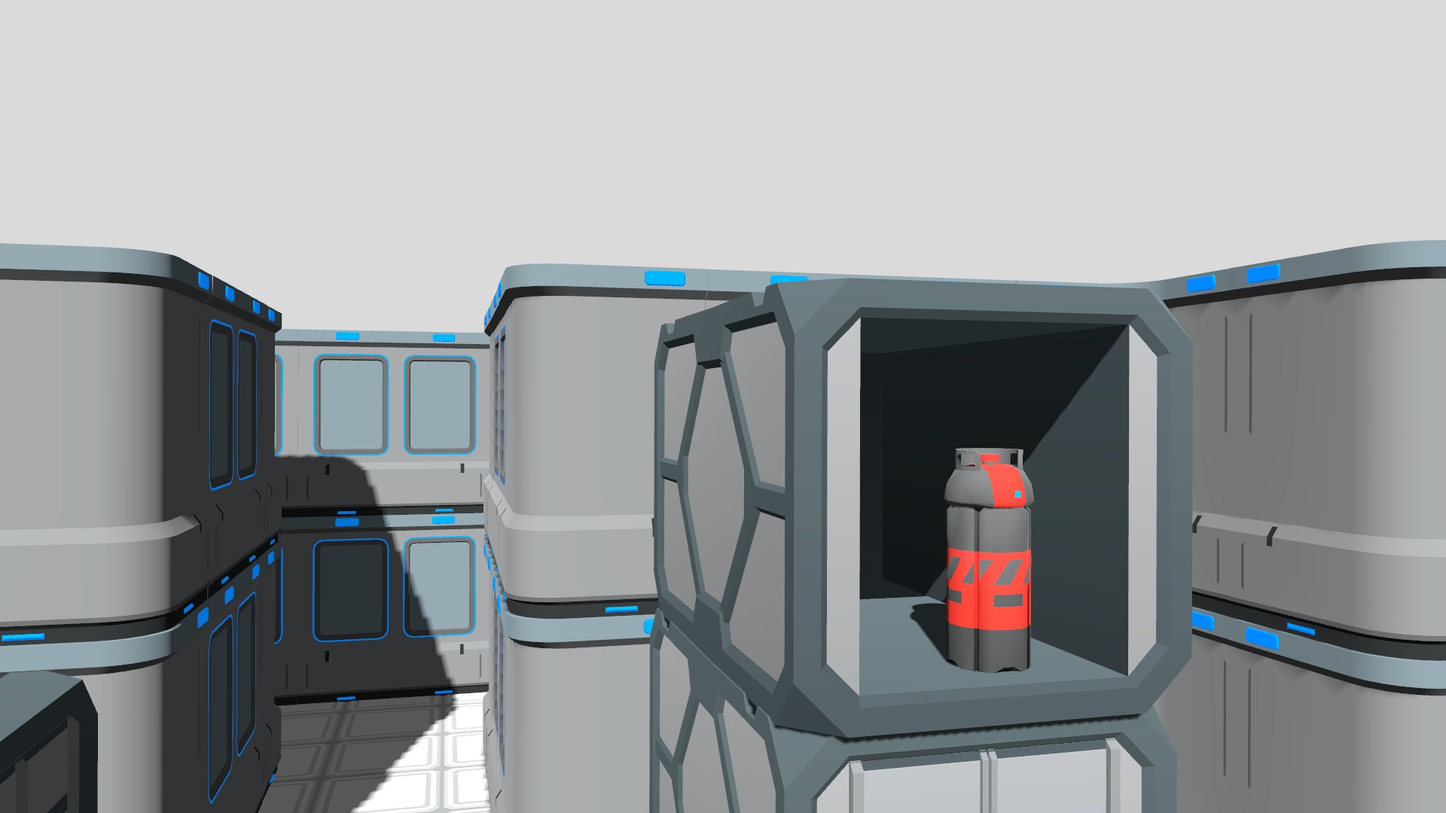red_barrel: (942, 437, 1035, 679)
